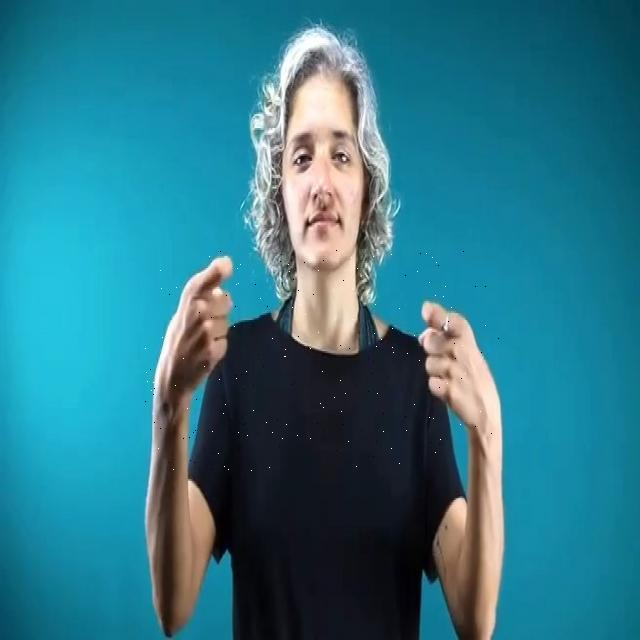allergy: (142, 250, 505, 472)
